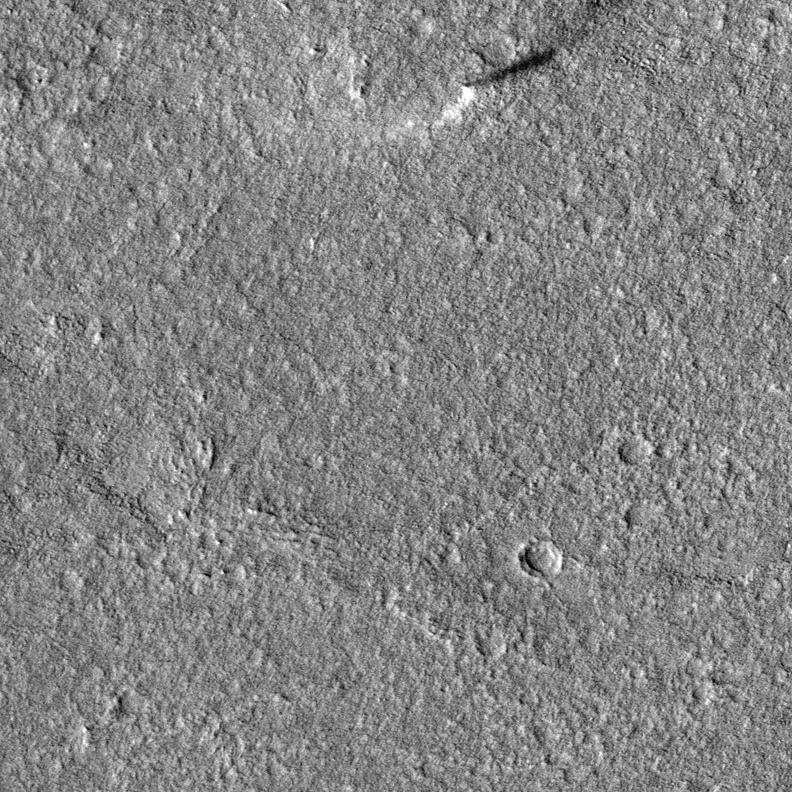dust_devil: (444, 42, 563, 124)
